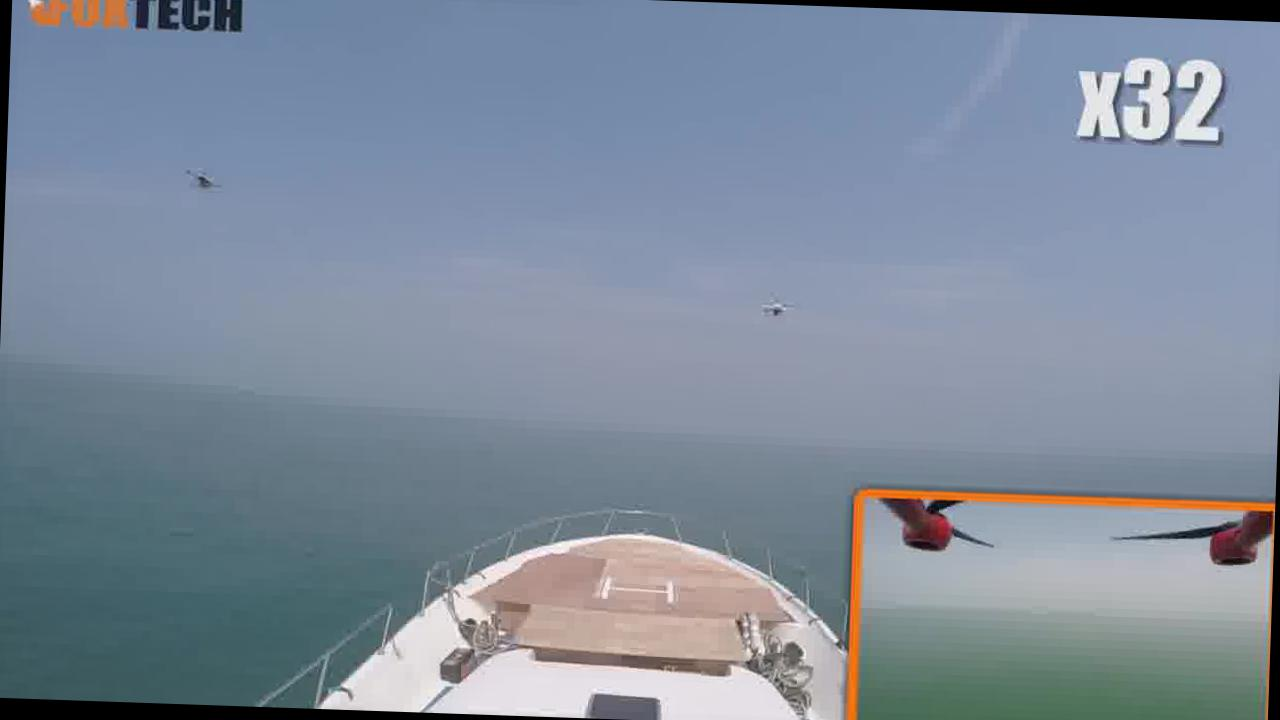drone: (175, 142, 232, 206), (749, 283, 808, 335)
